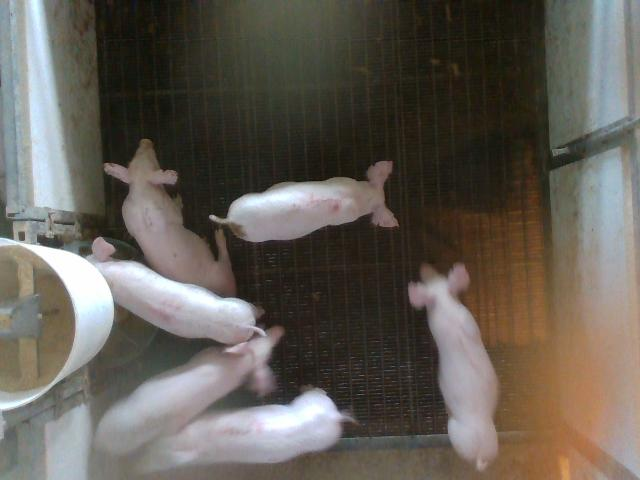pig-3: (135, 389, 354, 474)
pig-4: (88, 238, 265, 343)
pig-5: (209, 161, 398, 242)
